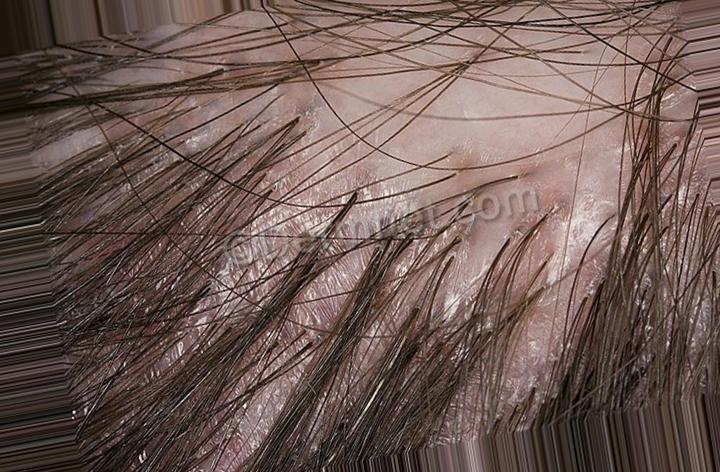Folliculitis: (355, 75, 579, 285)
